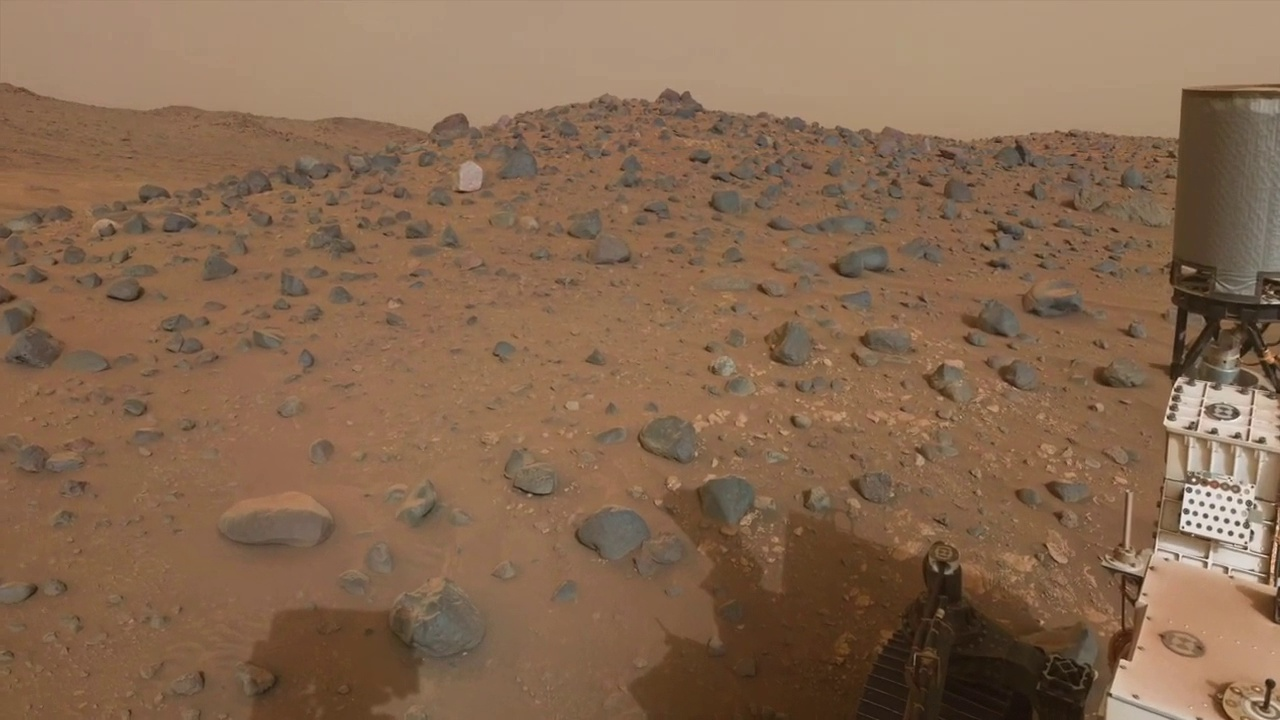rock: (637, 416, 694, 464), (1013, 488, 1066, 527), (848, 473, 900, 506), (984, 358, 1035, 391), (1092, 364, 1149, 389), (922, 364, 960, 401), (1246, 679, 1280, 720), (1044, 481, 1093, 506), (512, 476, 556, 498), (1212, 683, 1234, 720), (1029, 542, 1056, 570), (1035, 582, 1059, 613)
